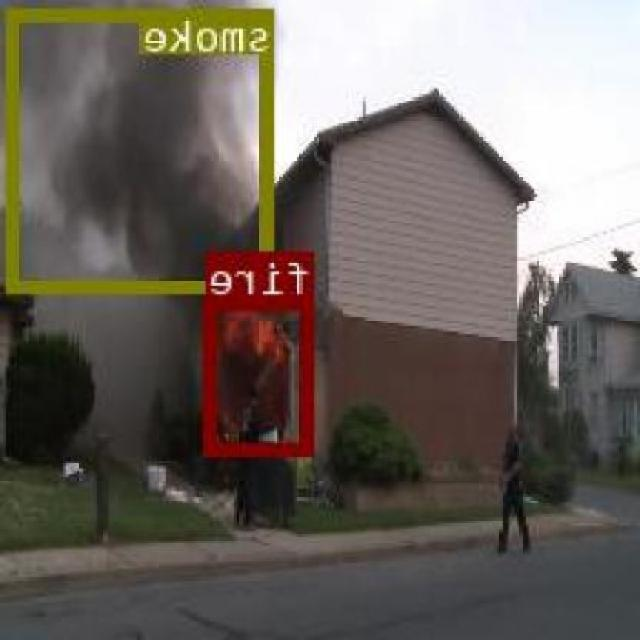Fire: (207, 297, 315, 454)
Smoke: (11, 6, 276, 289)
